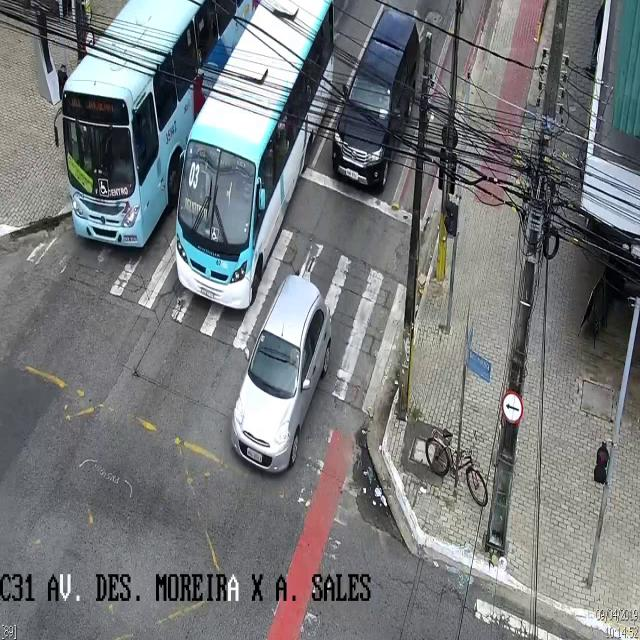Bus: (54, 5, 262, 247), (175, 3, 335, 306)
Car: (230, 274, 329, 476), (332, 8, 419, 194)
